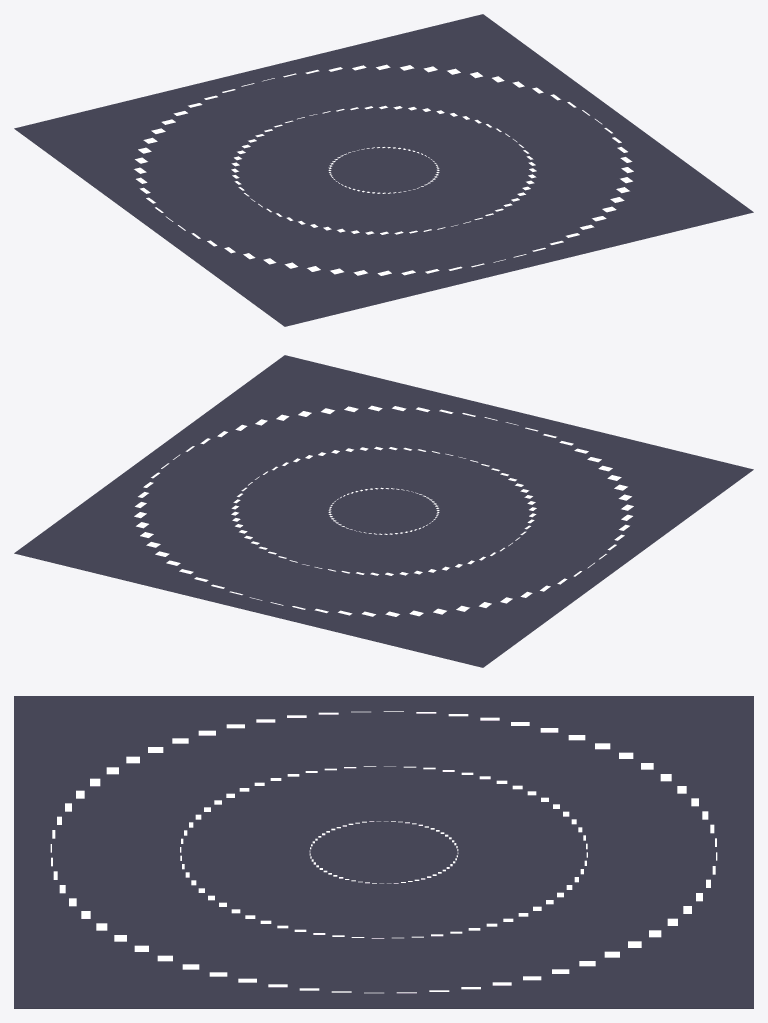
Rendered from campus.glb.
The picture shows the model from 3 angles, top to bottom: view 1: azimuth 30°, elevation 25°; view 2: azimuth 150°, elevation 25°; view 3: azimuth 270°, elevation 25°; orthographic projection. The views are drawn at different scales.
Parts seen in each view (by area): view 1: Cognition.X Campus; view 2: Cognition.X Campus; view 3: Cognition.X Campus.
Part boxes in pixels (x1,y1,x2,y2): Cognition.X Campus: (14, 14, 753, 326); Cognition.X Campus: (14, 355, 753, 667); Cognition.X Campus: (14, 696, 753, 1008).
Bounding box in the file's own units: 600 × 0.25 × 600.
